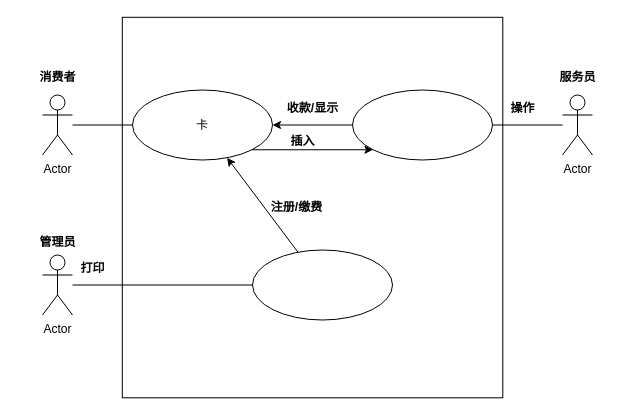
Some shapes in this 634 by 416 pixel diagram are drawn without their labels. Here are the shapes that lost their labels. From the top down, the box of each, then its label:
(352, 89, 492, 160): 收款机
(252, 249, 392, 320): 管理中心
